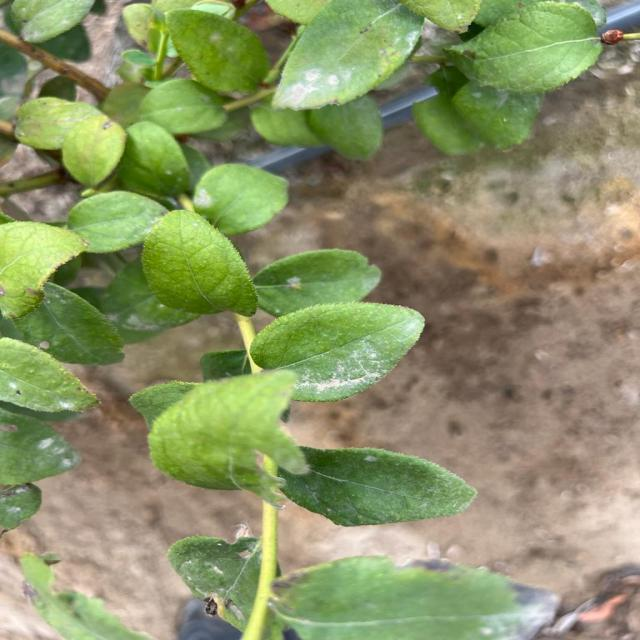Hojas con oidiosis: (263, 0, 426, 116), (243, 302, 426, 404), (264, 440, 478, 527)
